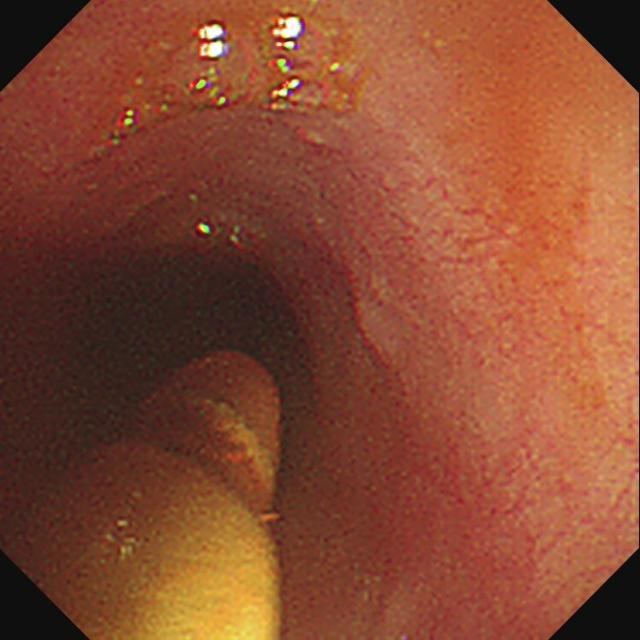K: (2, 347, 287, 640)
U: (196, 19, 231, 64), (268, 57, 301, 104), (272, 12, 307, 56), (198, 219, 214, 238)
